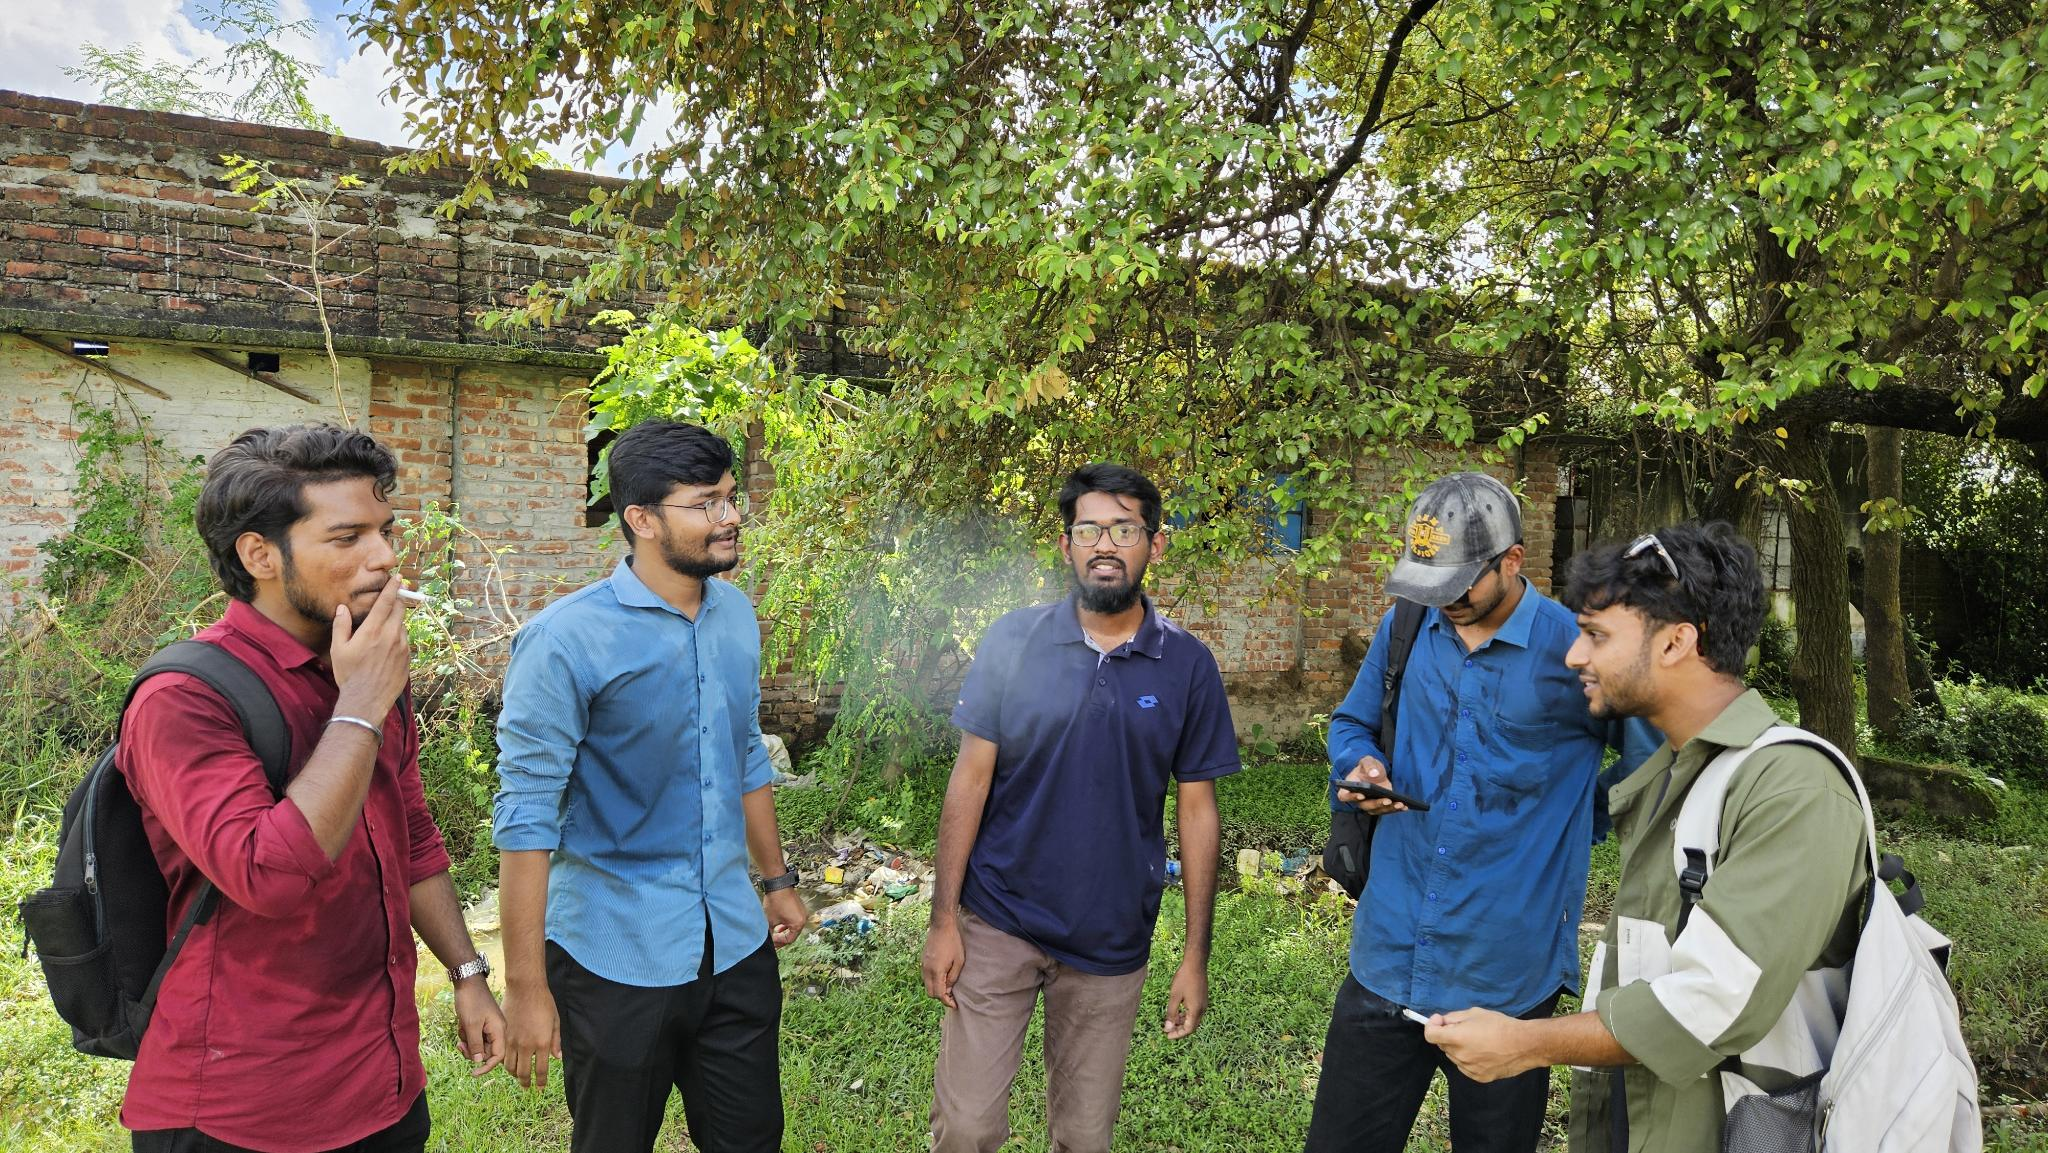cigarette: (394, 586, 439, 605), (1400, 1005, 1433, 1028)
nonSmoker: (497, 419, 817, 1153), (1307, 471, 1647, 1153), (919, 463, 1241, 1153)
smoker: (21, 425, 512, 1153), (1419, 524, 1986, 1153)
